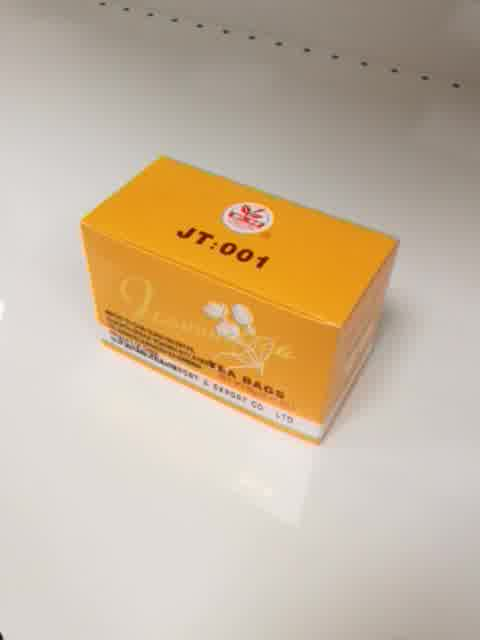jasminetea: (79, 152, 400, 449)
